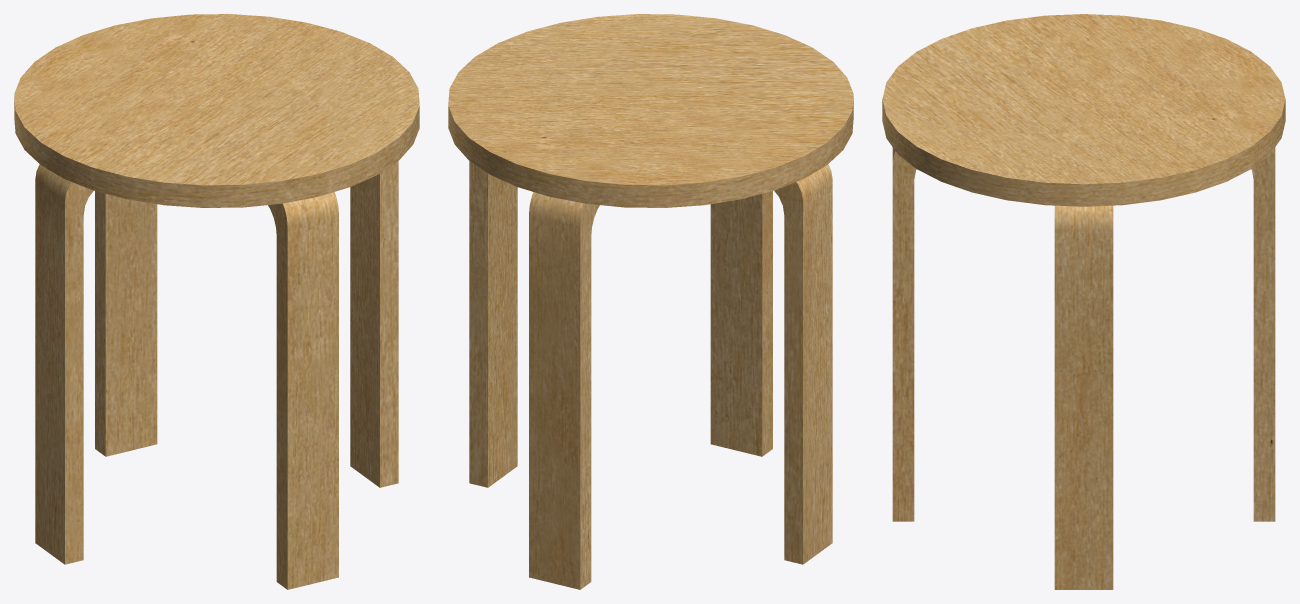
File: taburett.fbx
3 renders of one model, left to right at view 1: azimuth 30°, elevation 25°; view 2: azimuth 150°, elevation 25°; view 3: azimuth 270°, elevation 25°, orthographic.
Visible parts, largest first — view 1: taburett.001; view 2: taburett.001; view 3: taburett.001.
Boxes of the visible parts, bbox=[...] form: taburett.001: bbox=[14, 14, 419, 589]; taburett.001: bbox=[448, 14, 853, 589]; taburett.001: bbox=[882, 14, 1285, 589].
Size of the model in its own units: 312 by 350 by 312.
